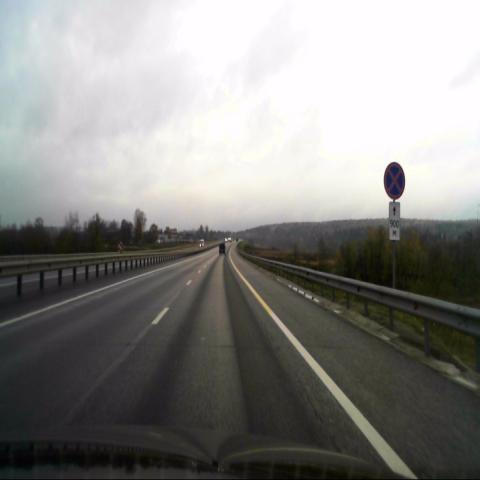8_2_2: (389, 201, 400, 242)
